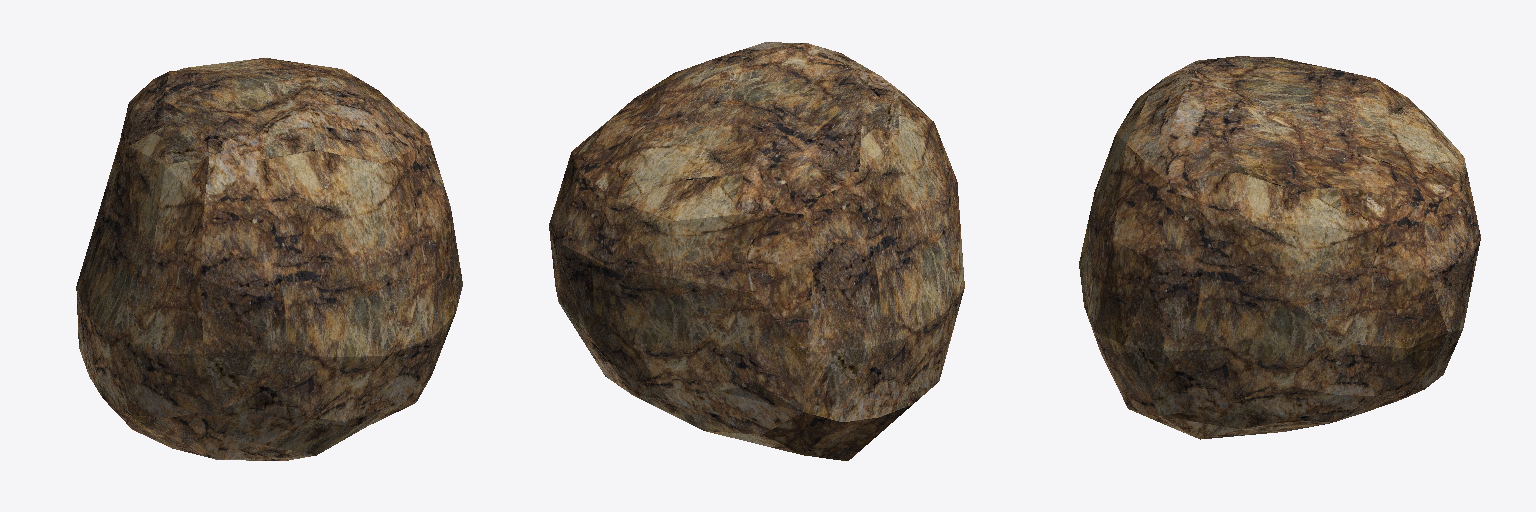
The picture shows the model from 3 angles: view 1: azimuth 30°, elevation 25°; view 2: azimuth 150°, elevation 25°; view 3: azimuth 270°, elevation 25°; orthographic projection.
Parts seen in each view (by area): view 1: GeoSphere001; view 2: GeoSphere001; view 3: GeoSphere001.
Part boxes in pixels (bbox=[...]): GeoSphere001: bbox=[76, 58, 462, 460]; GeoSphere001: bbox=[549, 42, 964, 460]; GeoSphere001: bbox=[1079, 56, 1480, 439].
Size of the model in its own units: 65.61 by 67.93 by 69.55.
1 materials, 1 textured.